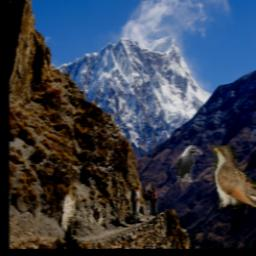Crow: (176, 145, 202, 182)
Cuckoo: (212, 145, 256, 209)
